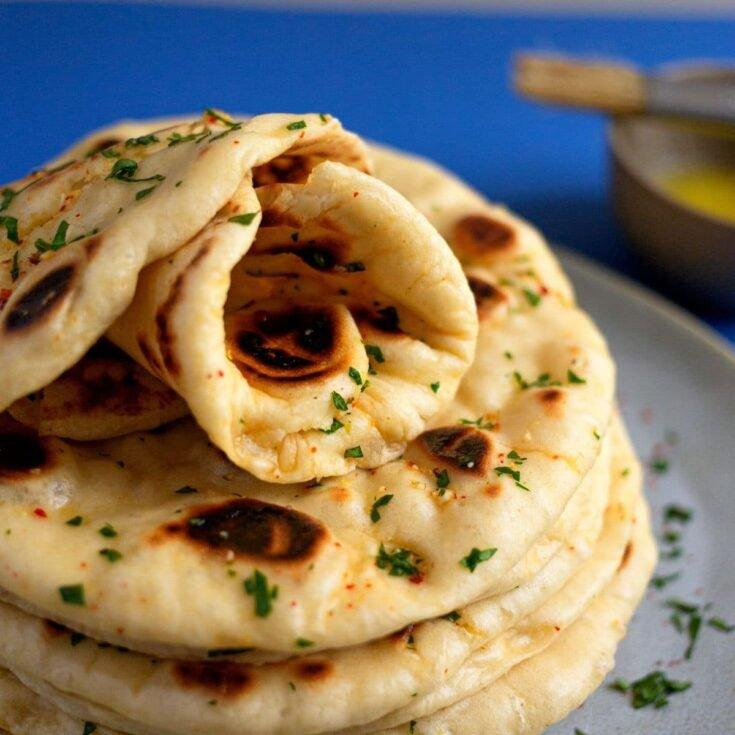Naan: (1, 105, 735, 735)
